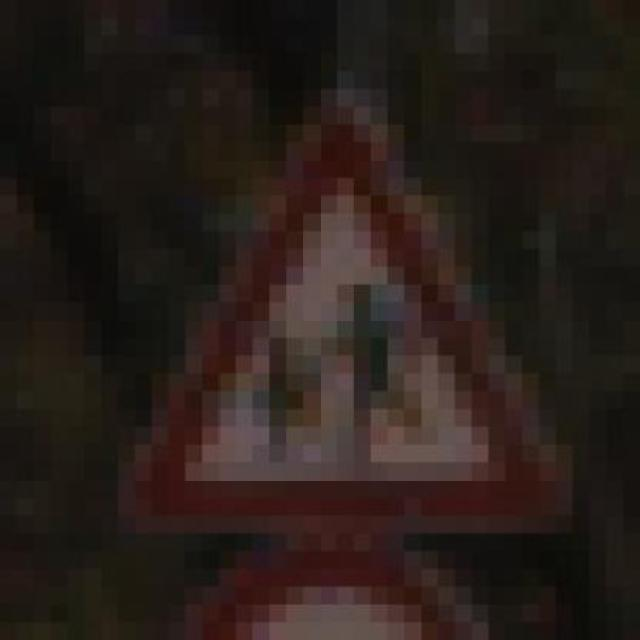Beware of children: (118, 89, 556, 552)
